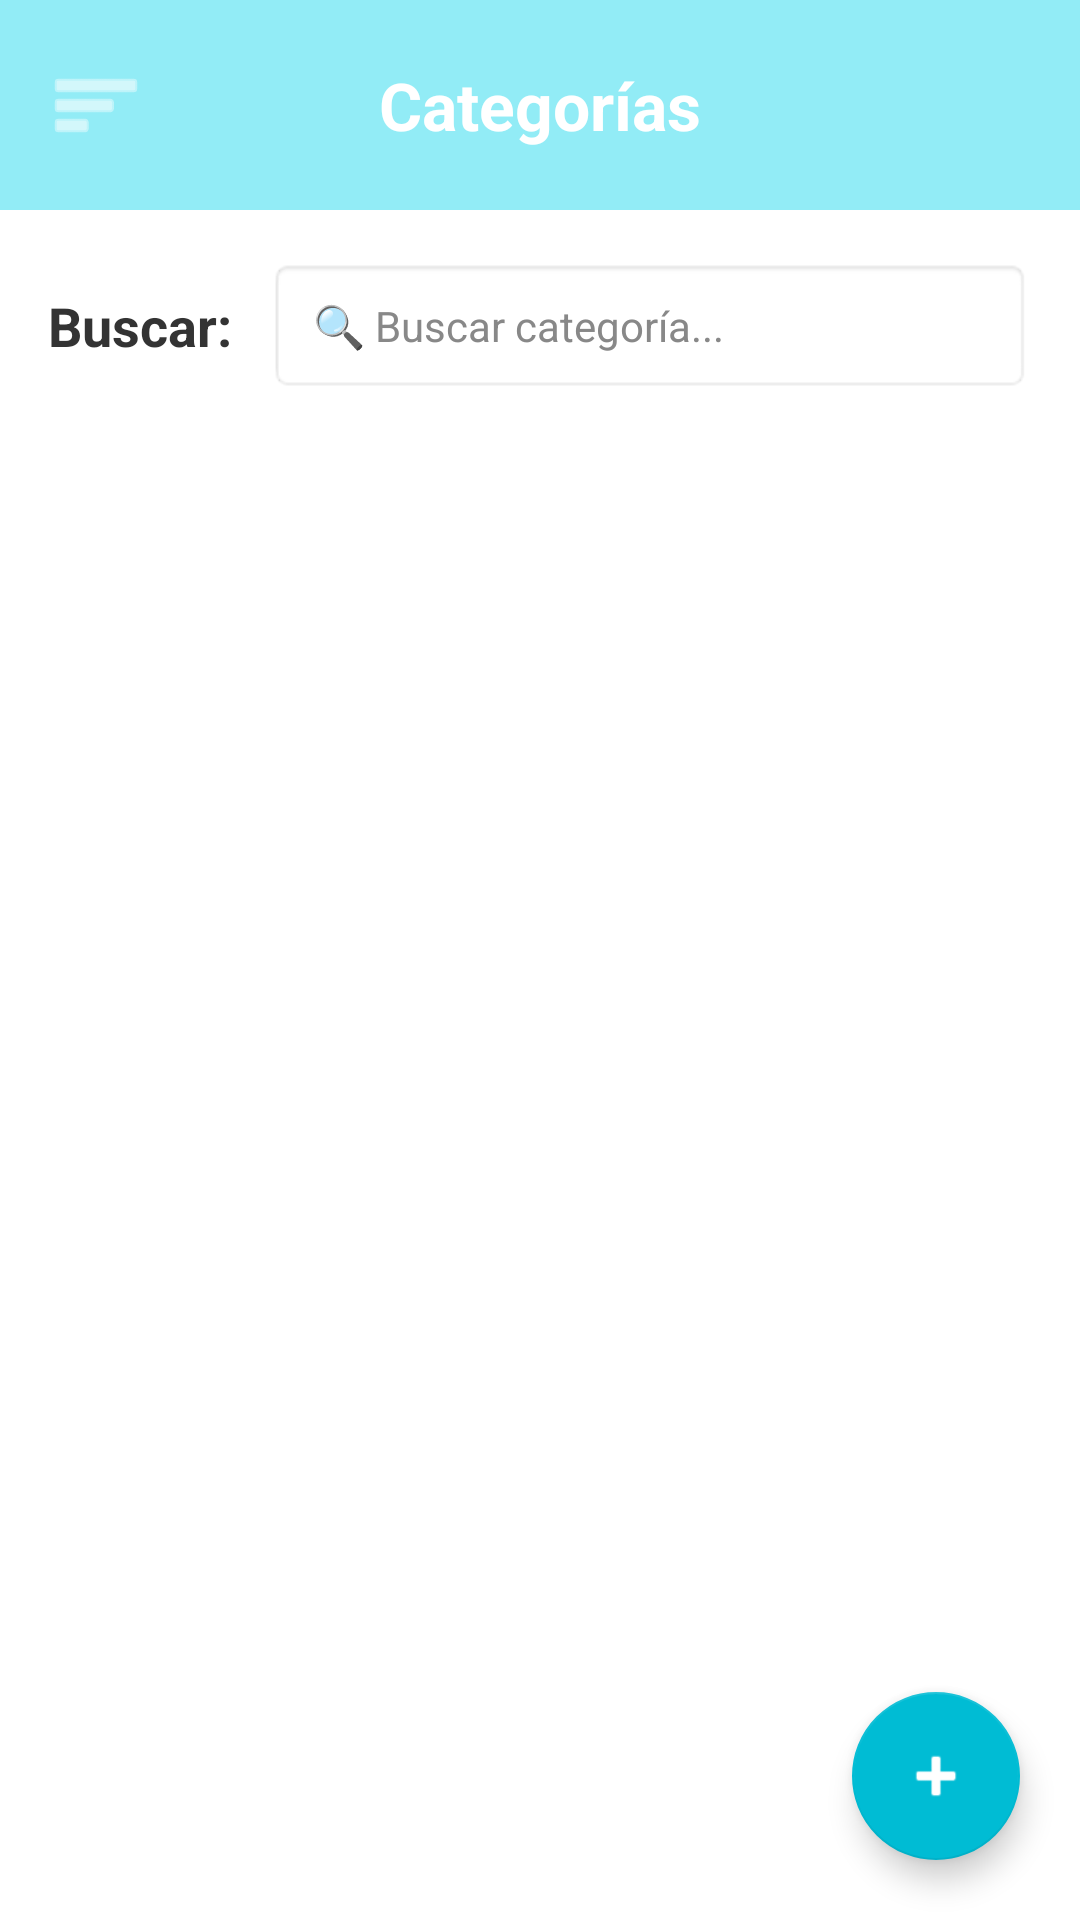

Where to tap for icons on this 1080×1920 app screen, as (x=x, y=y):
Agregar: (x=936, y=1776)
